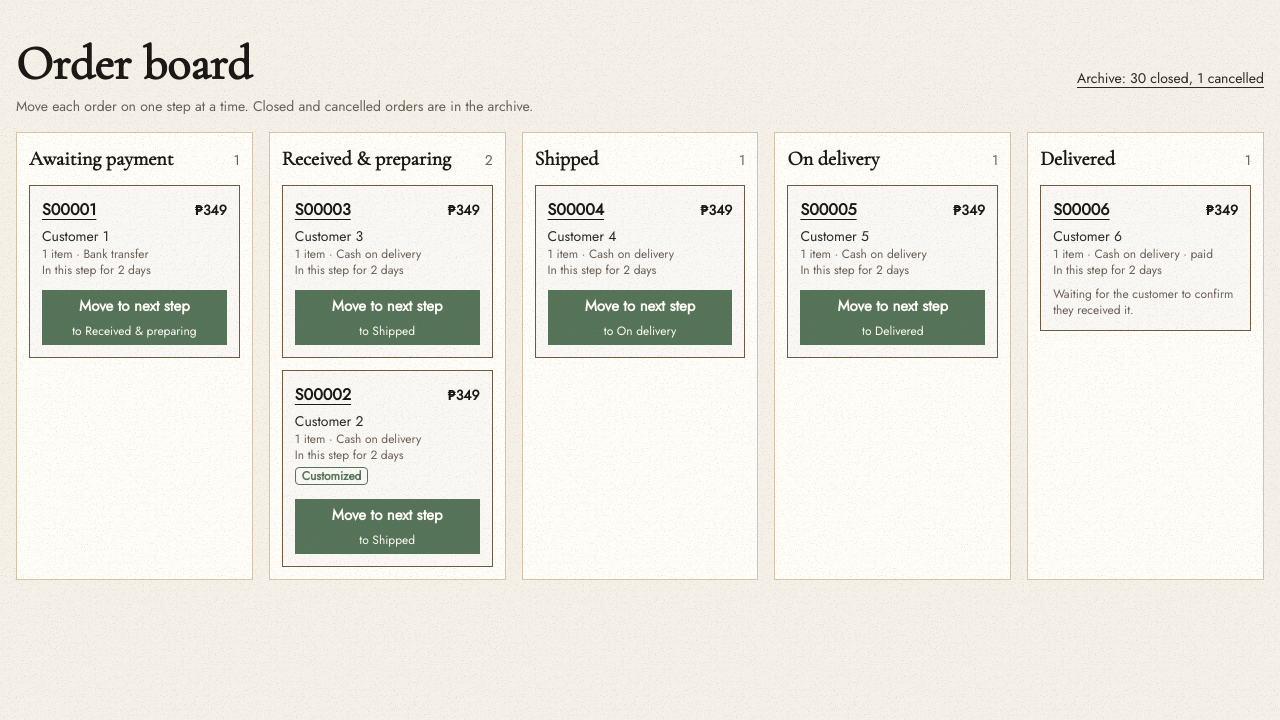
Test: the staff board (step 11) › a 409 conflict stays on the card in the shop's words, with what the order is now; nothing moves
Click the button with aria-label "Move S00003 to next step: Shipped": (387, 318) [295,290,480,345]
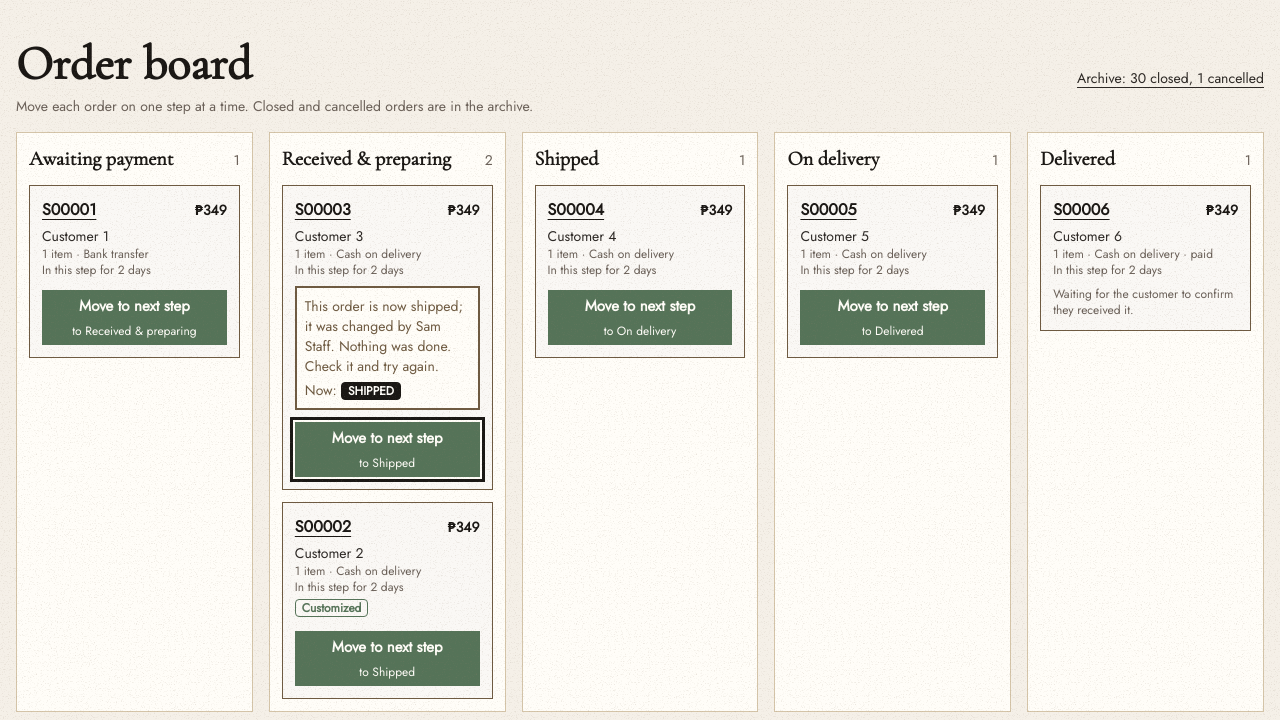
Result: the message with test id "card-problem" shows "This order is now shipped; it was changed by Sam Staff. Nothing was done. Check it and try again." at [305,296,463,376]
Result: the message with test id "card-problem" shows "Now: Shipped" at [295,286,480,410]
